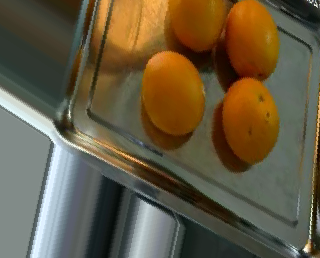Orange: (141, 50, 206, 135), (221, 76, 280, 163), (225, 1, 282, 80)
